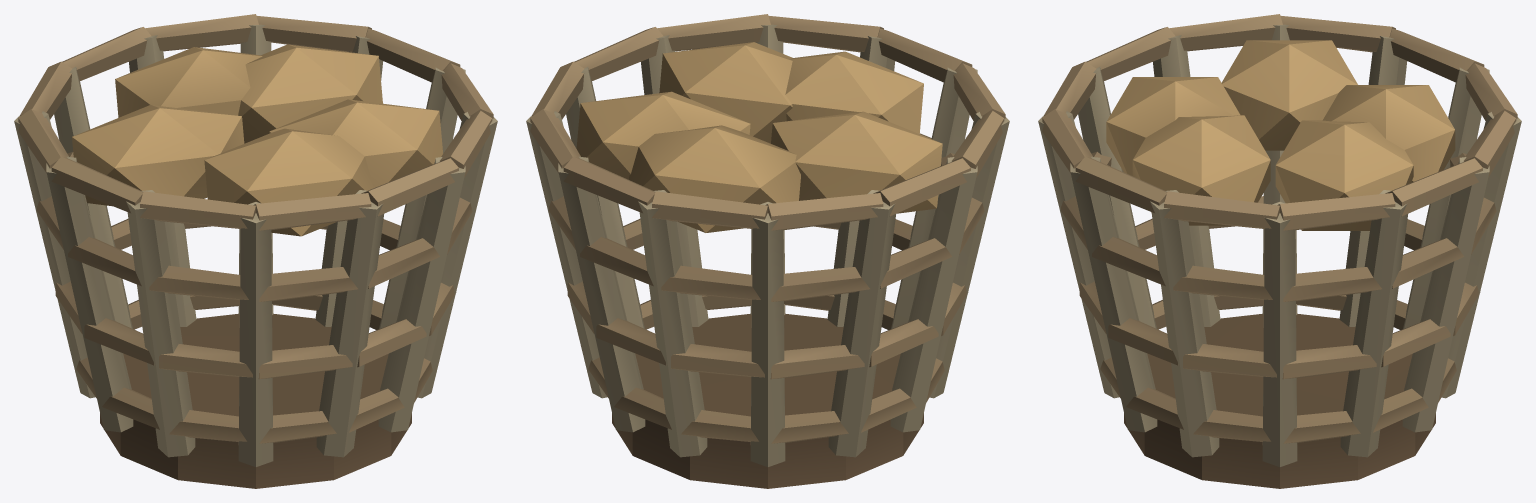
The model's file is bread_basket.glb.
The picture shows the model from 3 angles, left to right: view 1: azimuth 30°, elevation 25°; view 2: azimuth 150°, elevation 25°; view 3: azimuth 270°, elevation 25°; orthographic projection.
Parts seen in each view (by area): view 1: bread_basket; view 2: bread_basket; view 3: bread_basket.
Boxes of the visible parts, <box> form: bread_basket: <box>14,14,497,488</box>; bread_basket: <box>526,14,1009,488</box>; bread_basket: <box>1038,14,1521,488</box>.
Size of the model in its own units: 0.7749 by 0.59 by 0.7749.
